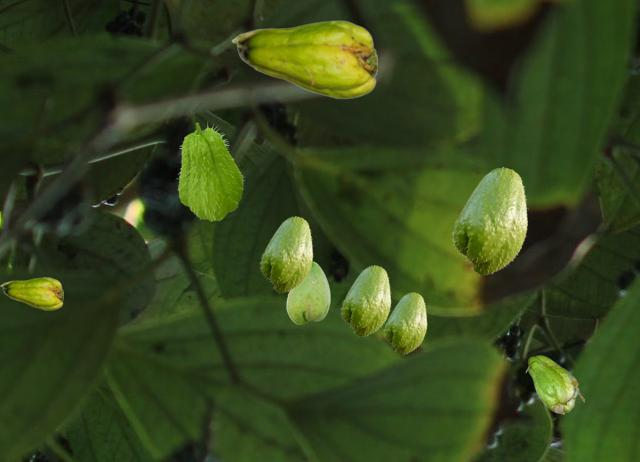sayote: (231, 20, 376, 98), (451, 167, 527, 275), (176, 121, 244, 220), (259, 216, 312, 292), (340, 265, 390, 336), (525, 355, 583, 413), (286, 261, 329, 323), (383, 292, 426, 354), (0, 277, 62, 309)
